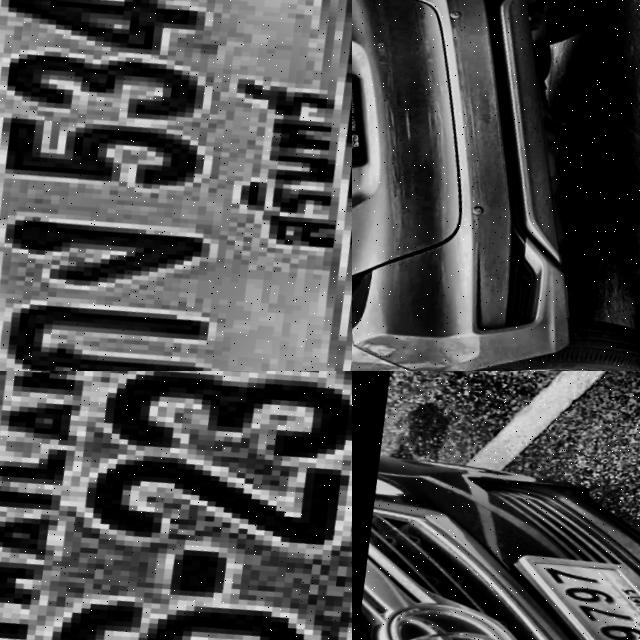license-plate: (0, 0, 352, 371), (0, 371, 352, 640), (475, 530, 640, 640), (352, 63, 381, 189)
